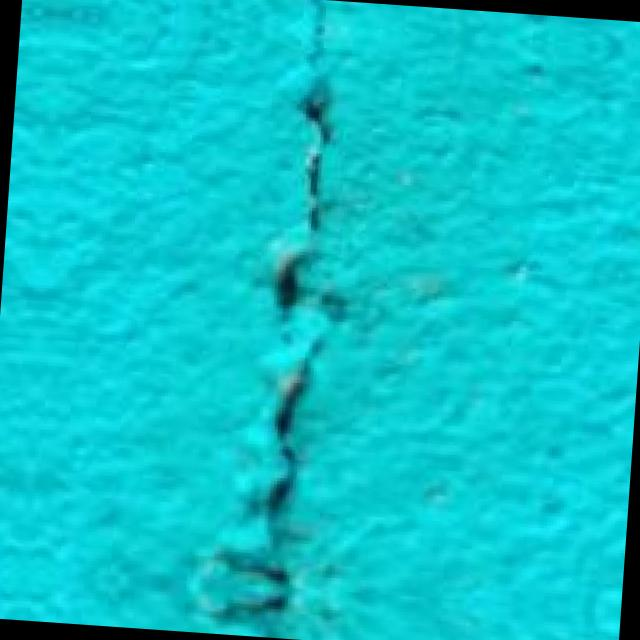crack: (186, 0, 386, 635)
